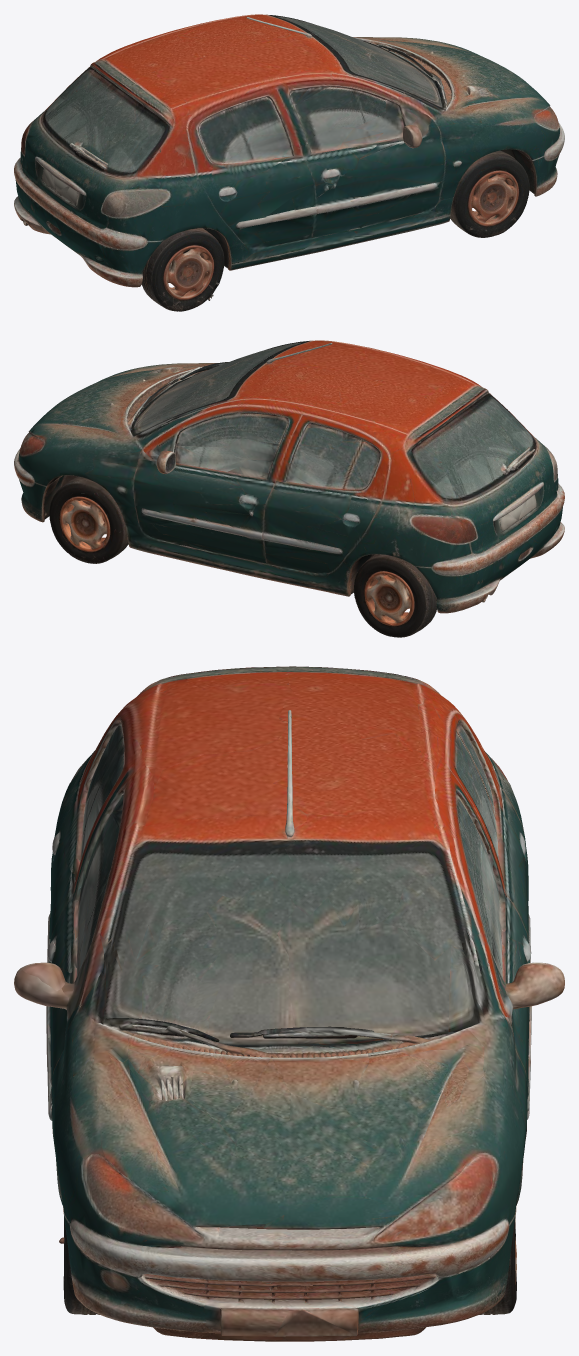
Rendered from pampeiro-abandonado__01a16c1c.glb.
The picture shows the model from 3 angles, top to bottom: view 1: azimuth 30°, elevation 25°; view 2: azimuth 150°, elevation 25°; view 3: azimuth 270°, elevation 25°; orthographic projection. The views are drawn at different scales.
Visible parts, largest first — view 1: pampeiro-abandonado; view 2: pampeiro-abandonado; view 3: pampeiro-abandonado.
Boxes of the visible parts, box(x1,y1,x2,y2) form: pampeiro-abandonado: box(14, 14, 564, 311); pampeiro-abandonado: box(14, 340, 564, 637); pampeiro-abandonado: box(14, 666, 564, 1341).
Bounding box in the file's own units: 3.83 × 1.69 × 2.
1 material, 1 textured.
